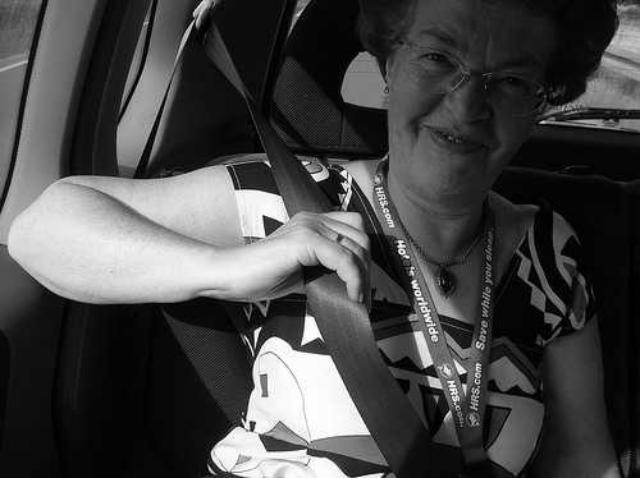SafeDriving: (412, 36, 460, 78), (487, 62, 536, 95)
Seatbelt: (192, 0, 430, 478)
